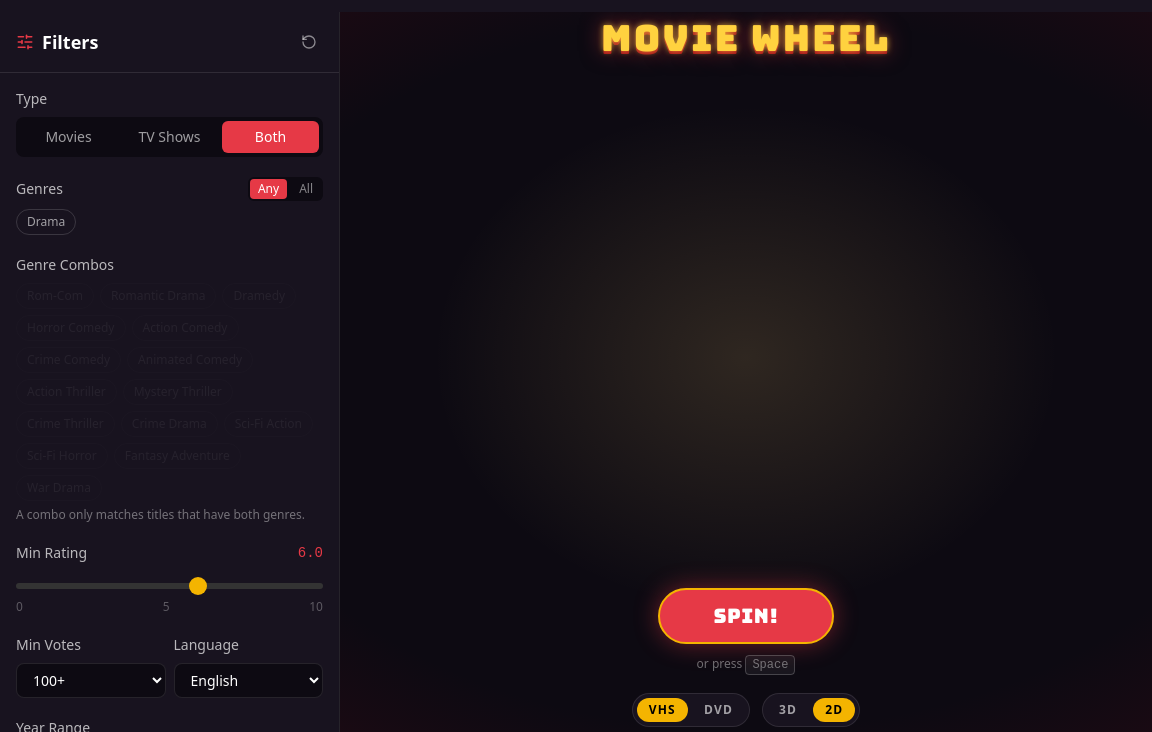
Test: App › shows an error when no titles match
The width and height of the screenshot is (1152, 732).
Click the button "Spin!".
click(746, 616)  # box left=658, top=588, right=834, bottom=644
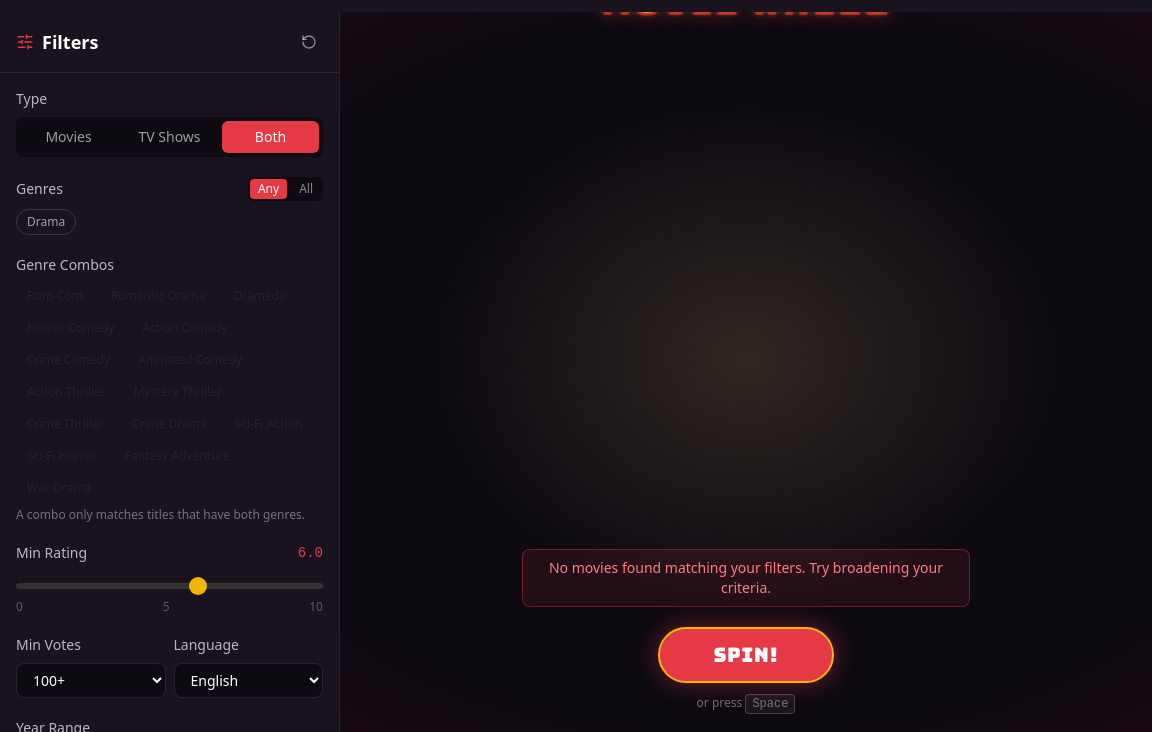
Now the message shows "No movies found", box left=549, top=558, right=943, bottom=596
